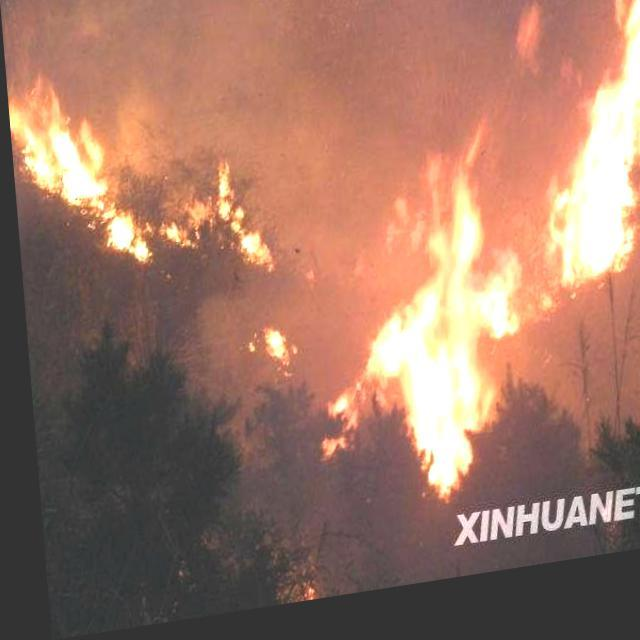Fire: (315, 131, 535, 539), (12, 58, 270, 304), (538, 0, 639, 309), (244, 324, 292, 384)
